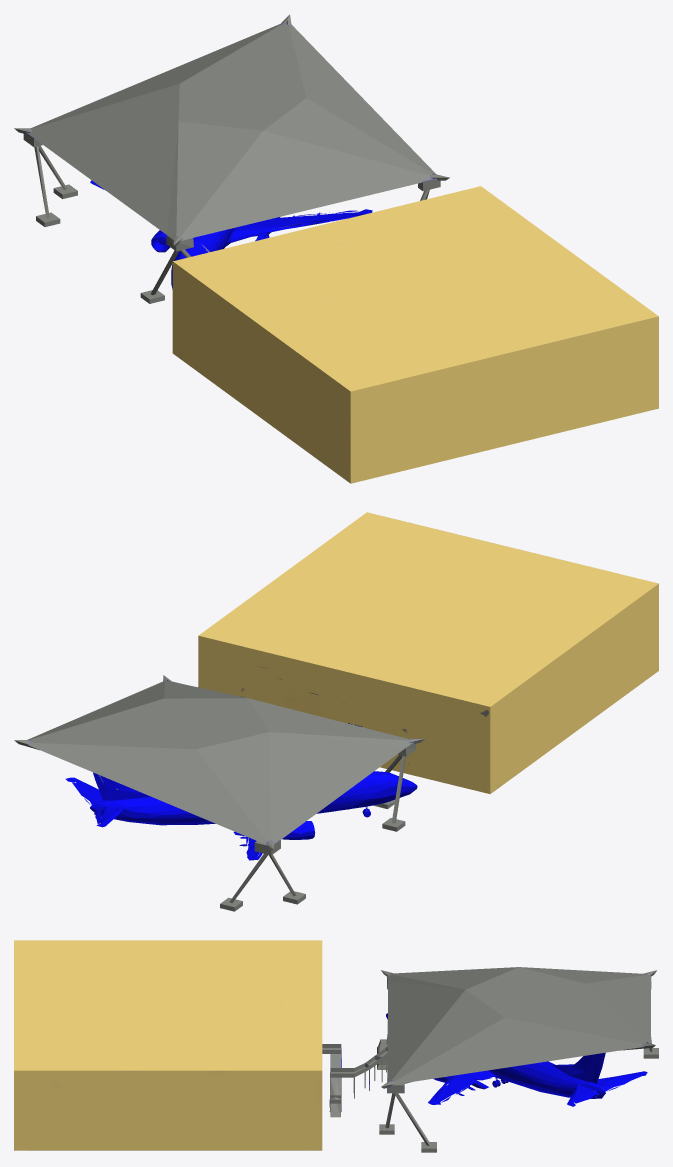
3 renders of one model, top to bottom at view 1: azimuth 30°, elevation 25°; view 2: azimuth 150°, elevation 25°; view 3: azimuth 270°, elevation 25°, orthographic. The views are drawn at different scales.
Visible parts, largest first — view 1: Base Link Reduced; view 2: Base Link Reduced; view 3: Base Link Reduced.
Boxes of the visible parts, left/top/right/bottom form: Base Link Reduced: left=14, top=14, right=658, bottom=483; Base Link Reduced: left=14, top=512, right=658, bottom=911; Base Link Reduced: left=14, top=940, right=658, bottom=1152.
Size of the model in its own units: 35.53 by 73.24 by 13.29.
1 material, 1 textured.
